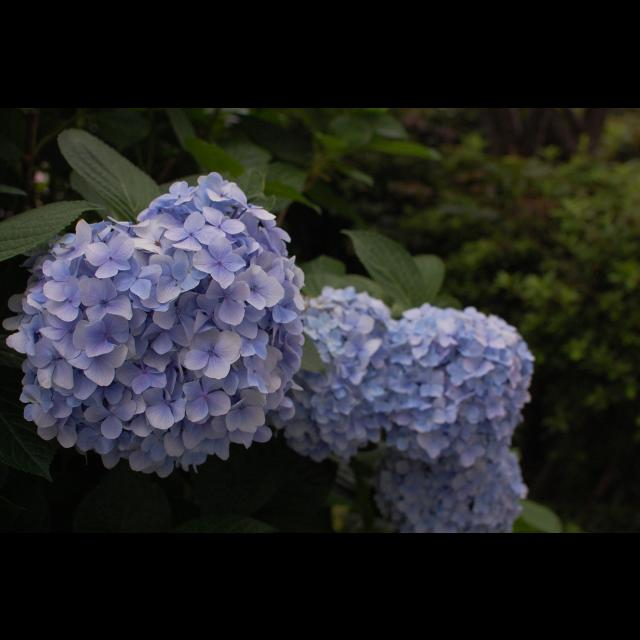Flower: (14, 167, 316, 501), (386, 306, 542, 464), (285, 284, 393, 454), (388, 461, 526, 532)
